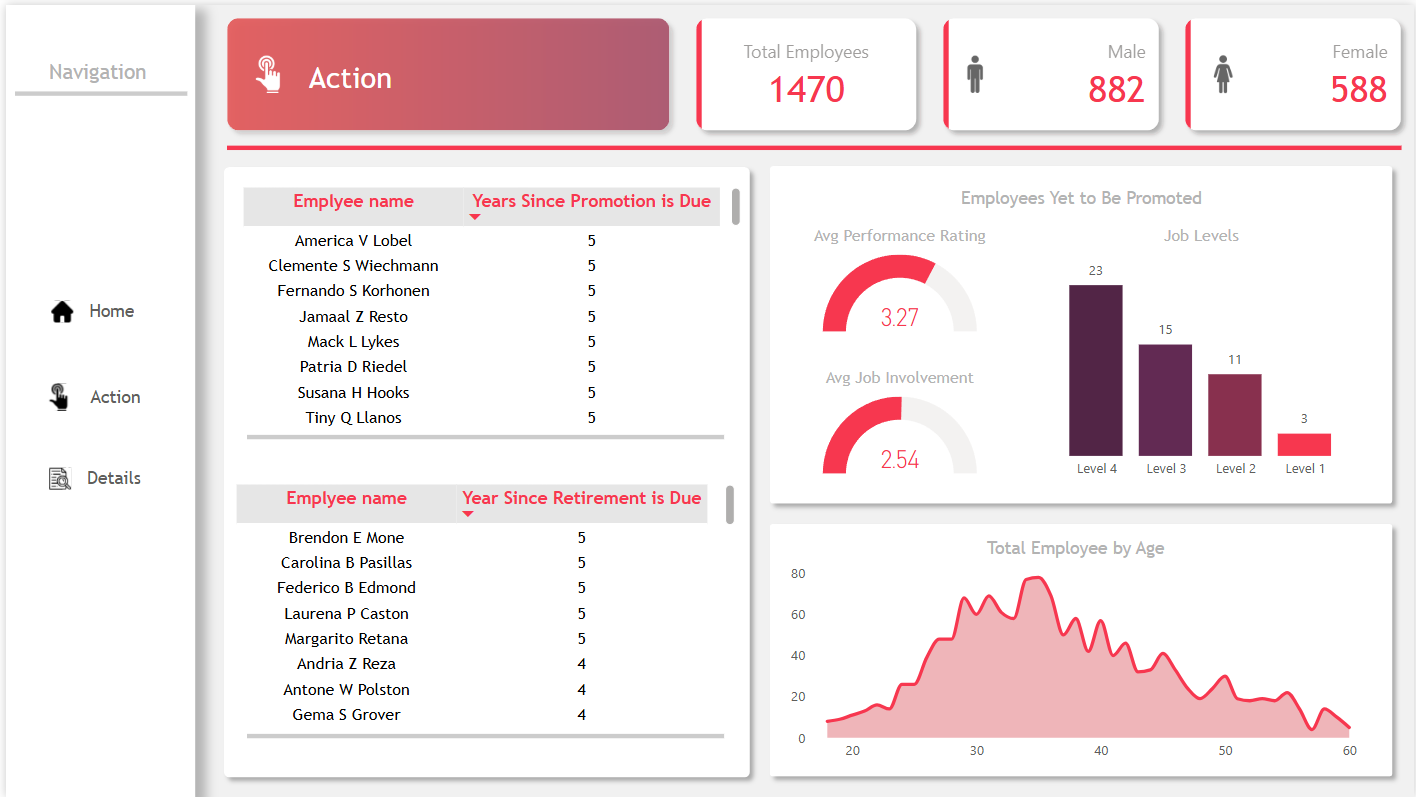

The page's visual inventory and layout, read from the dashboard file:
{"tool":"powerbi","page":{"name":"Action","canvas":[1280,720],"ordinal":1},"visuals":[{"type":"shape","box":[0,0,172.2,720],"z":0},{"type":"shape","box":[188.7,138.1,496,572.9],"z":1000},{"type":"shape","box":[685,137.5,583.8,325],"z":2000},{"type":"shape","box":[685,462.5,583.8,247.5],"z":3000},{"type":"cardVisual","fields":{"Data":["HR Analytics Data.Total Employee"]},"box":[615.6,0,224.4,126.7],"z":4000},{"type":"cardVisual","fields":{"Data":["HR Analytics Data.No of Male"]},"box":[840,0,220,126.7],"z":5000},{"type":"cardVisual","fields":{"Data":["HR Analytics Data.No of Female"]},"box":[1060,0,220,126.7],"z":6000},{"type":"textbox","box":[0,44.4,172.2,37.8],"z":7000},{"type":"shape","box":[7.8,0,156.7,161.1],"z":8000},{"type":"cardVisual","fields":{"Data":["HR Analytics Data.Action Heading"]},"box":[188.9,0,426.7,126.7],"z":9000},{"type":"shape","box":[201.1,97.8,1067.8,63.3],"z":10000},{"type":"tableEx","fields":{"Values":["HR employee data.Emplyee name","HR Analytics Data.Years Since Promotion is Due"]},"box":[210,161.1,463.3,232.2],"z":11000},{"type":"tableEx","fields":{"Values":["HR employee data.Emplyee name","HR Analytics Data.Year Since Retirement is Due"]},"box":[203.8,431.2,463.8,227.5],"z":12000},{"type":"gauge","title":"Avg Performance Rating","fields":{"Y":["HR Analytics Data.PerformanceRating"]},"box":[728.1,200.8,168.8,101],"z":13000},{"type":"gauge","title":"Avg Job Involvement","fields":{"Y":["HR Analytics Data.JobInvolvement"]},"box":[728.1,330.2,168.8,101],"z":14000},{"type":"columnChart","title":"Job Levels","fields":{"Y":["HR Analytics Data.Total Employee"],"Category":["HR Analytics Data.Job Level"]},"box":[936.3,200.8,300.6,239],"z":15000},{"type":"textbox","box":[862.5,161.2,230,32.5],"z":16000},{"type":"lineChart","fields":{"Category":["HR Analytics Data.Age"],"Y":["HR Analytics Data.Total Employee"]},"box":[713.8,483.8,522.5,212.5],"z":17000},{"type":"shape","box":[218.8,361.2,433.8,63.8],"z":18000},{"type":"shape","box":[218.8,632.5,433.8,63.8],"z":19000},{"type":"actionButton","box":[8.2,403.6,145.5,53.6],"z":19001},{"type":"actionButton","box":[8.2,251.8,145.5,53.6],"z":19002},{"type":"actionButton","box":[8.2,330,145.5,53.6],"z":19003}]}

Visuals, with their boxes on the page's 1280x720 design canvas (x1, y1, x2, y2). These are canvas units, not pixel positions in the 1416x797 screenshot, which may show the page scaled, cropped or inside an application window:
shape: rect(0, 0, 172, 720)
shape: rect(189, 138, 685, 711)
shape: rect(685, 138, 1269, 462)
shape: rect(685, 462, 1269, 710)
cardVisual - HR Analytics Data.Total Employee: rect(616, 0, 840, 127)
cardVisual - HR Analytics Data.No of Male: rect(840, 0, 1060, 127)
cardVisual - HR Analytics Data.No of Female: rect(1060, 0, 1280, 127)
textbox: rect(0, 44, 172, 82)
shape: rect(8, 0, 164, 161)
cardVisual - HR Analytics Data.Action Heading: rect(189, 0, 616, 127)
shape: rect(201, 98, 1269, 161)
tableEx - HR employee data.Emplyee name x HR Analytics Data.Years Since Promotion is Due: rect(210, 161, 673, 393)
tableEx - HR employee data.Emplyee name x HR Analytics Data.Year Since Retirement is Due: rect(204, 431, 668, 659)
"Avg Performance Rating" gauge: rect(728, 201, 897, 302)
"Avg Job Involvement" gauge: rect(728, 330, 897, 431)
"Job Levels" columnChart: rect(936, 201, 1237, 440)
textbox: rect(862, 161, 1092, 194)
lineChart - HR Analytics Data.Age x HR Analytics Data.Total Employee: rect(714, 484, 1236, 696)
shape: rect(219, 361, 653, 425)
shape: rect(219, 632, 653, 696)
actionButton: rect(8, 404, 154, 457)
actionButton: rect(8, 252, 154, 305)
actionButton: rect(8, 330, 154, 384)
